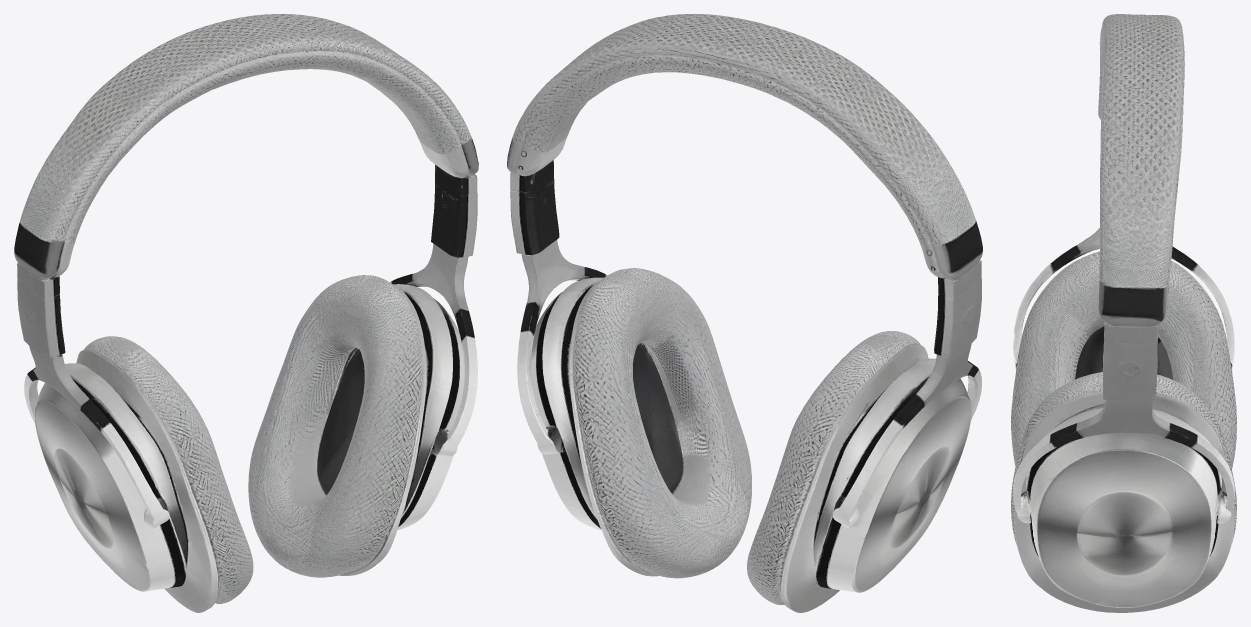
The model's file is desk-headphones.glb.
3 views of the same model, side by side, from view 1: azimuth 30°, elevation 25°; view 2: azimuth 150°, elevation 25°; view 3: azimuth 270°, elevation 25° (orthographic). The views are drawn at different scales.
Size of the model in its own units: 1.6 by 1.9 by 0.7239.
1 material, 1 textured.
